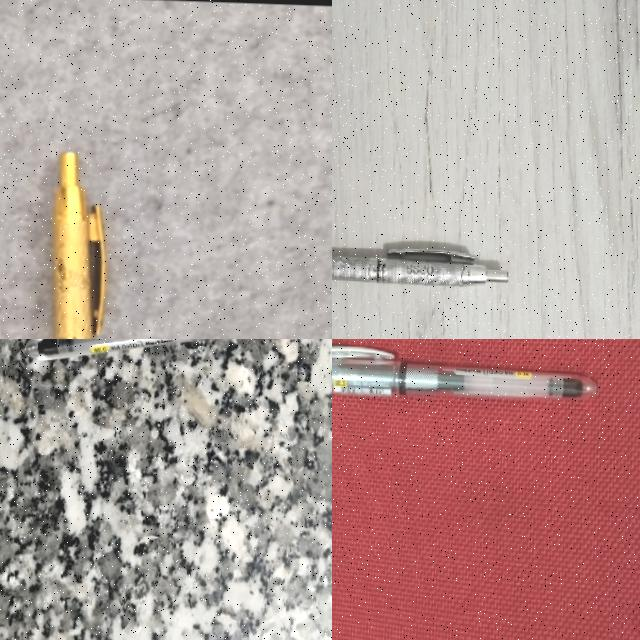pen: (332, 346, 595, 398), (24, 339, 203, 360)
signature pen: (54, 152, 105, 339), (332, 249, 506, 286)
